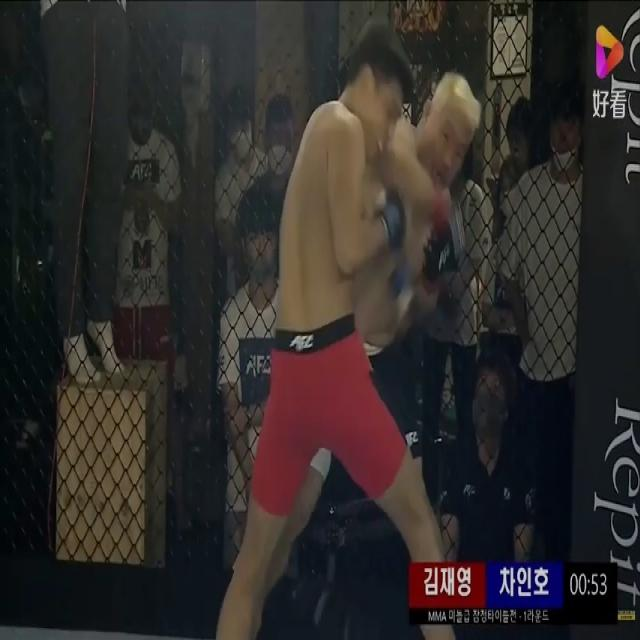fight: (215, 23, 481, 640)
non-fight: (497, 76, 582, 564), (39, 3, 131, 392), (218, 185, 285, 571), (112, 84, 180, 361), (214, 85, 266, 299), (251, 90, 301, 250)
